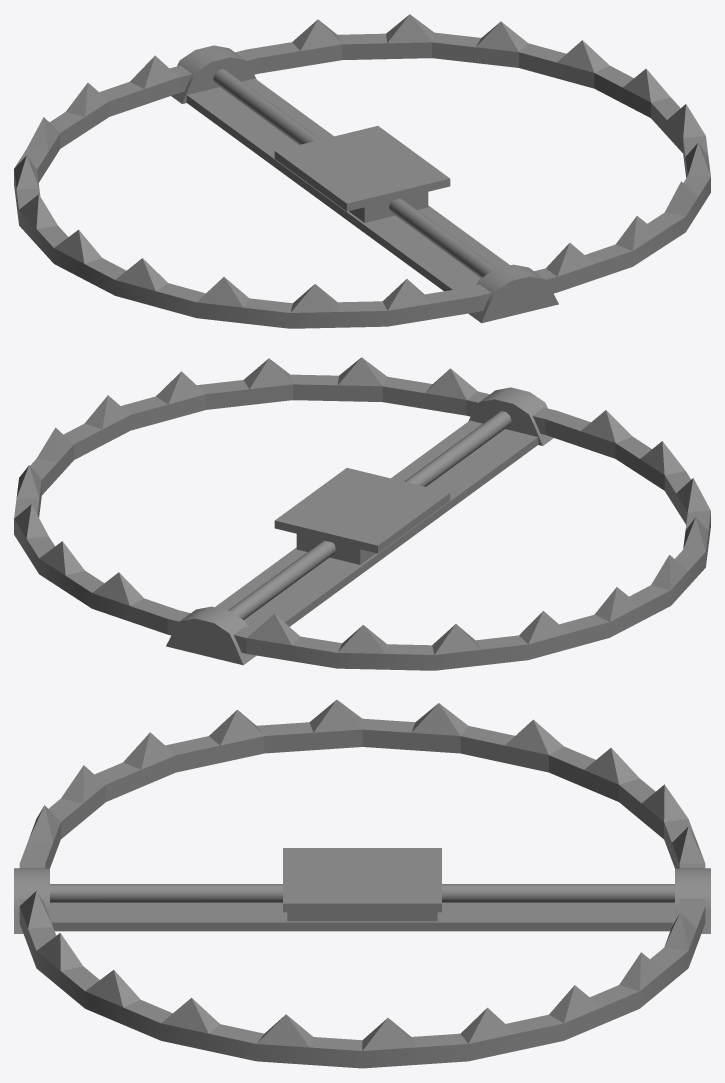
Rendered from BearTrap.fbx.
3 renders of one model, top to bottom at view 1: azimuth 30°, elevation 25°; view 2: azimuth 150°, elevation 25°; view 3: azimuth 270°, elevation 25°, orthographic. The views are drawn at different scales.
Visible parts, largest first — view 1: Base, Jaw_2, Jaw_1; view 2: Base, Jaw_2, Jaw_1; view 3: Base, Jaw_1, Jaw_2.
Part boxes in pixels (bbox=[...]): Base: bbox=[171, 45, 558, 323]; Jaw_2: bbox=[14, 55, 490, 328]; Jaw_1: bbox=[235, 14, 710, 293]; Base: bbox=[166, 387, 553, 665]; Jaw_2: bbox=[234, 407, 710, 670]; Jaw_1: bbox=[14, 357, 489, 635]; Base: bbox=[14, 848, 710, 933]; Jaw_1: bbox=[19, 891, 705, 1068]; Jaw_2: bbox=[19, 700, 705, 868].
Bounding box in the file's own units: 81.86 × 6.25 × 72.54.
